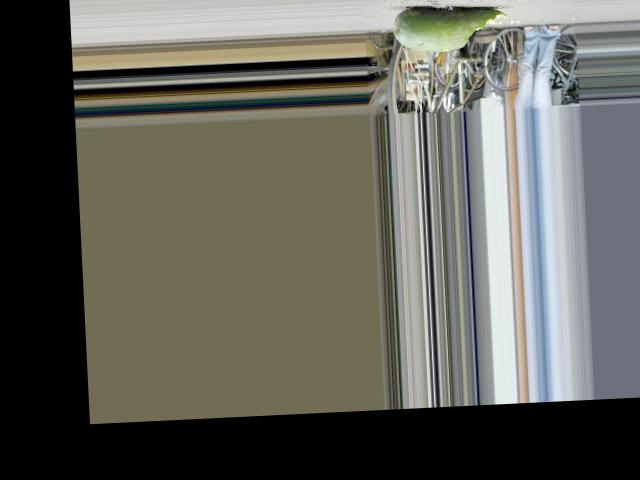cucumber: (393, 3, 510, 53)
